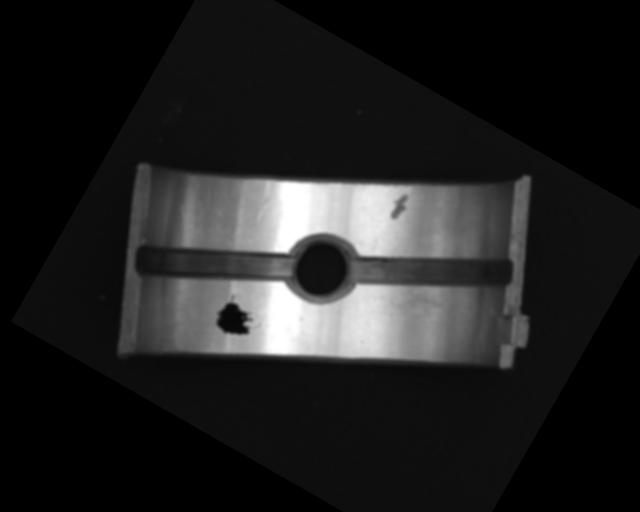blot: (208, 290, 267, 347)
bruise: (384, 189, 414, 225)
gap: (347, 197, 514, 345), (129, 195, 295, 340)
hole: (274, 223, 369, 317)
nick: (246, 178, 284, 224)
scratch: (379, 275, 452, 340)
